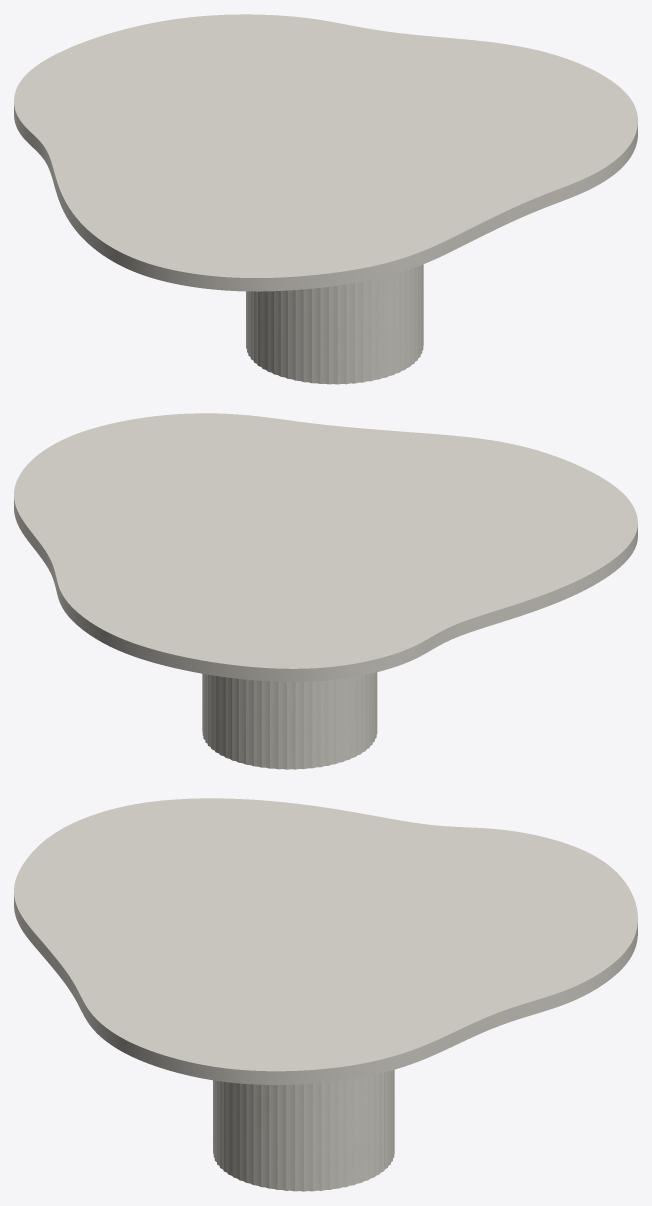
Rendered from pale_topone_standard_ridge.glb.
3 views of the same model, one above another, from view 1: azimuth 30°, elevation 25°; view 2: azimuth 150°, elevation 25°; view 3: azimuth 270°, elevation 25° (orthographic). The views are drawn at different scales.
Visible parts, largest first — view 1: standard_topone, ripple; view 2: standard_topone, ripple; view 3: standard_topone, ripple.
Boxes of the visible parts, left/top/right/bottom form: standard_topone: left=14, top=14, right=637, bottom=291; ripple: left=246, top=264, right=423, bottom=384; standard_topone: left=14, top=413, right=637, bottom=681; ripple: left=202, top=672, right=377, bottom=769; standard_topone: left=14, top=798, right=637, bottom=1084; ripple: left=213, top=1069, right=394, bottom=1191.
Bounding box in the file's own units: 6.83 × 2.5 × 6.6.
1 material, 1 textured.
